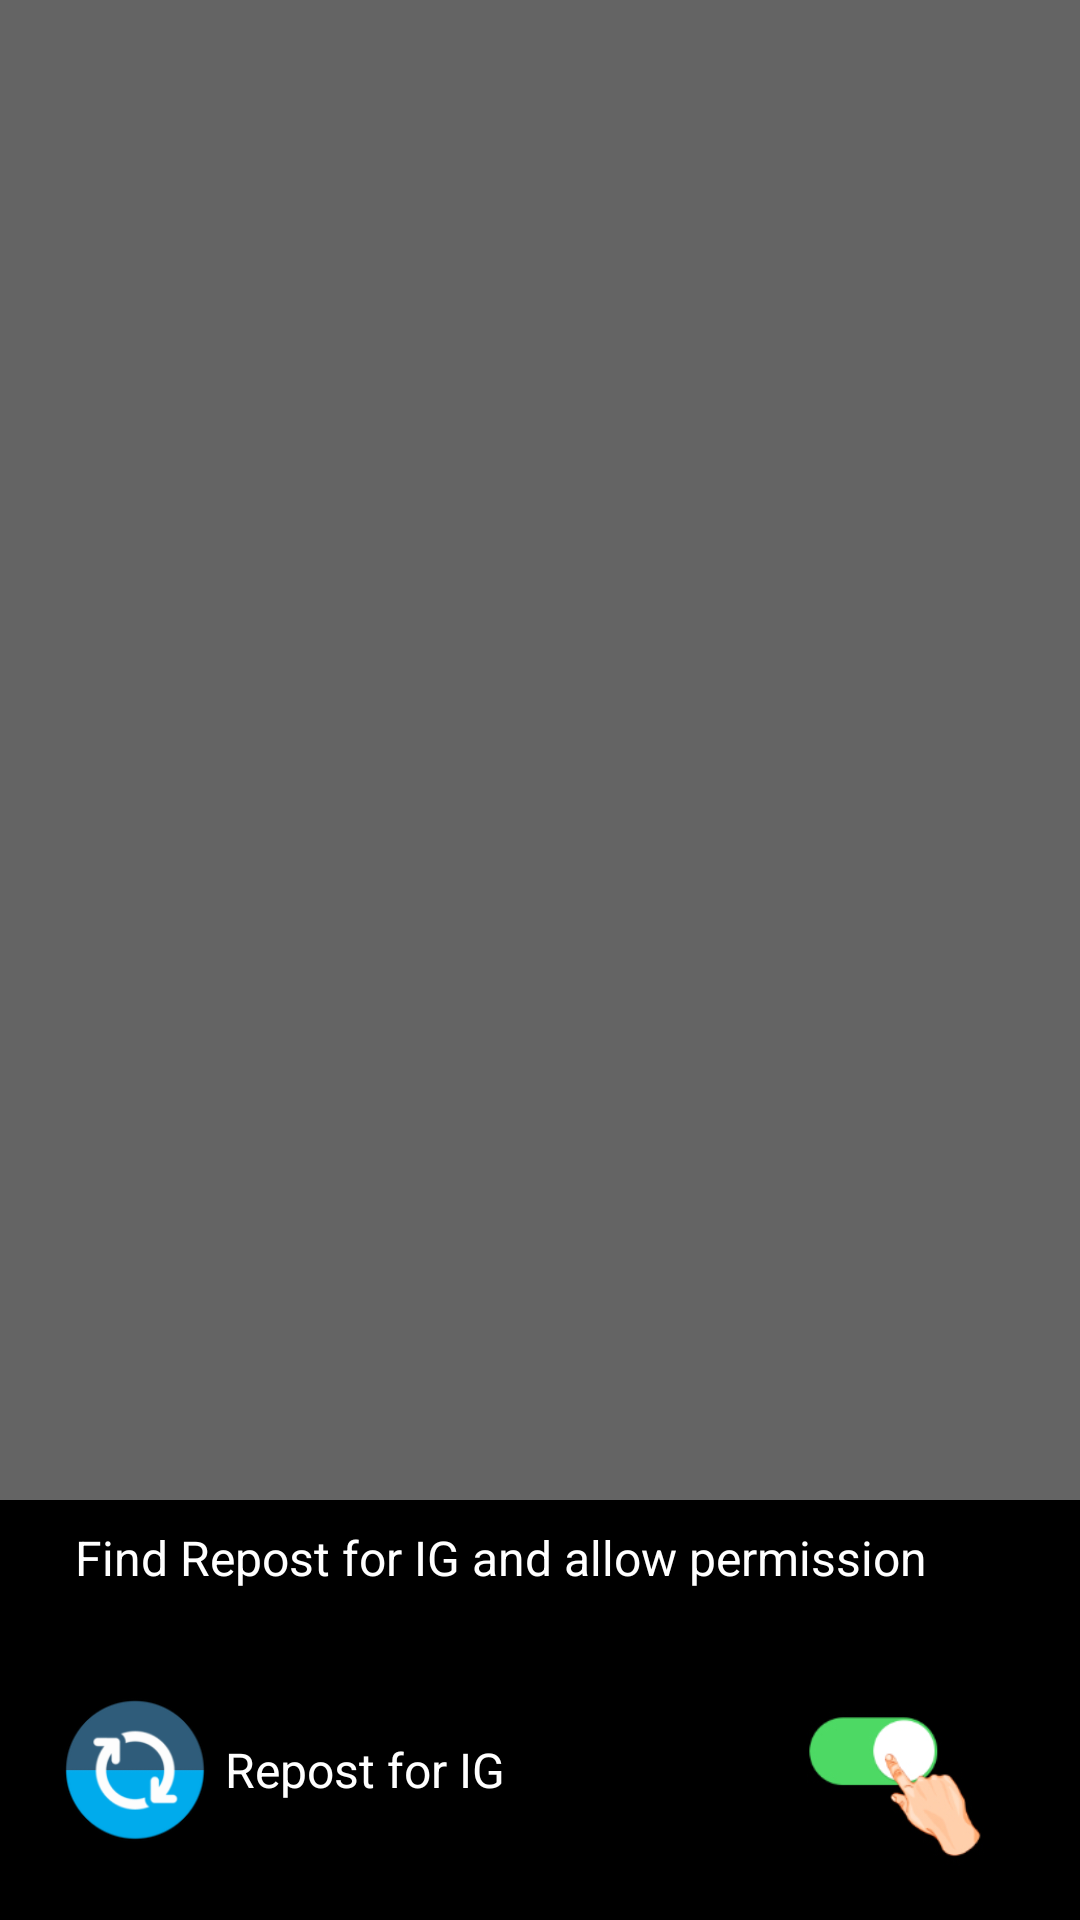

Named icons in this screenshot (1080 × 1920) and their centers, point (x, y):
hand switch: point (895, 1786)
